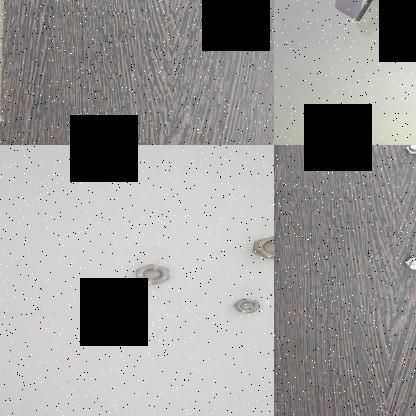Bolts: (349, 0, 385, 25), (398, 255, 416, 273), (399, 145, 416, 158)
NUTS: (127, 261, 180, 287), (220, 295, 268, 323), (245, 233, 274, 261)
